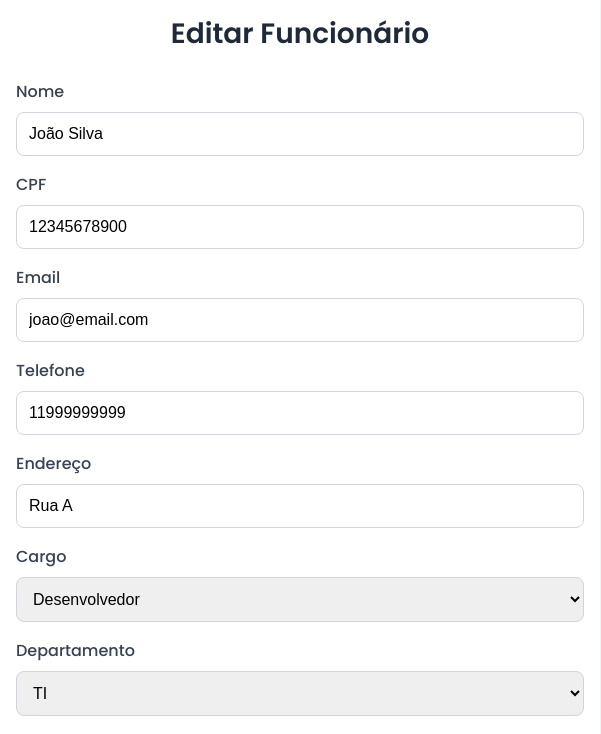
EmployeeEditForm › mostra erros de validação ao tentar salvar com campos obrigatórios vazios
Clear the field labelled "Nome" at (300, 134), box x1=16 y1=112 x2=584 y2=156
Clear the field labelled "CPF" at (300, 227), box x1=16 y1=205 x2=584 y2=249
Clear the field labelled "Email" at (300, 320), box x1=16 y1=298 x2=584 y2=342
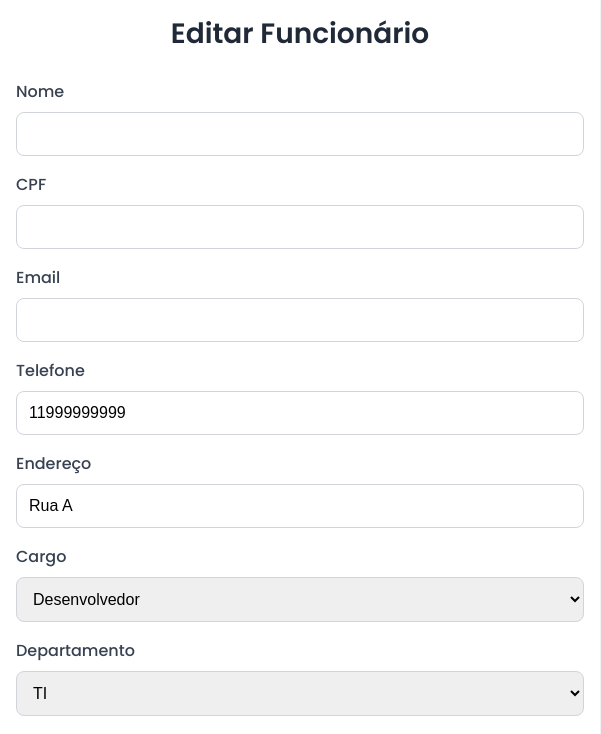
Select "Selecione" in the dropdown labelled "Cargo" at (300, 600), box x1=16 y1=577 x2=584 y2=622
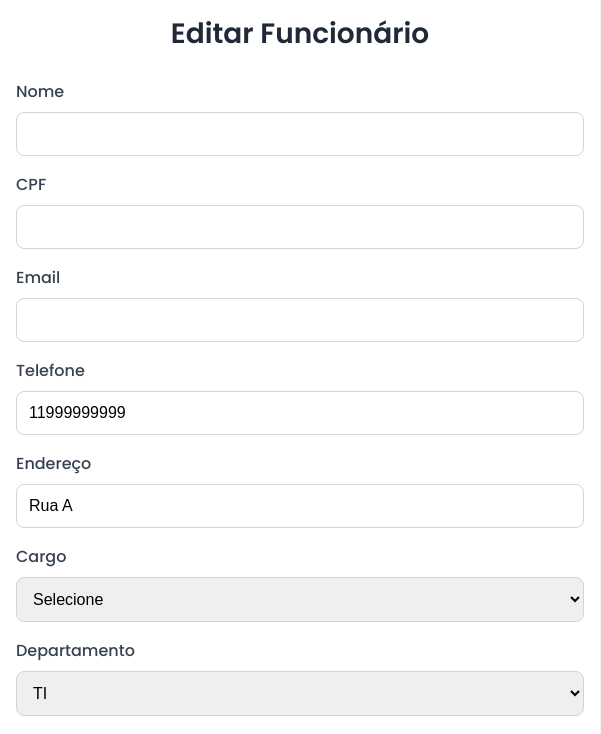
Select "Selecione" in the dropdown labelled "Departamento" at (300, 694), box x1=16 y1=671 x2=584 y2=716
(page scrolled)
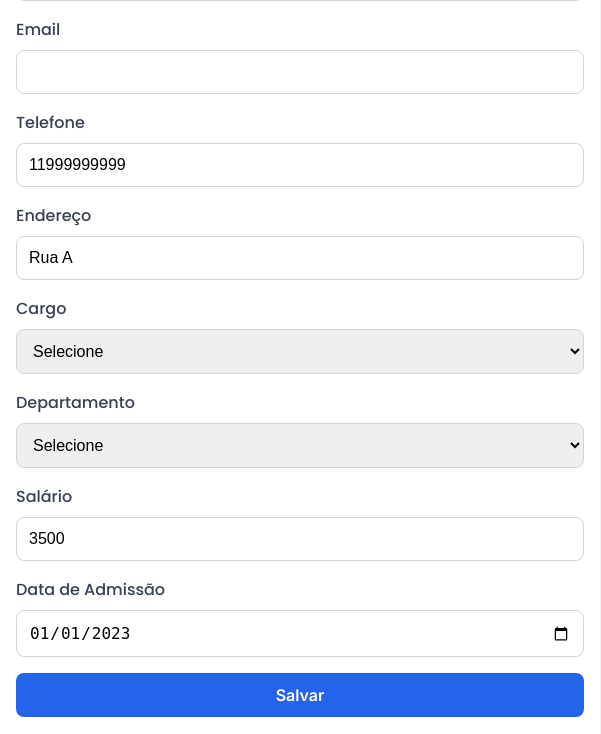
Clear the number field labelled "Salário" at (300, 539), box x1=16 y1=517 x2=584 y2=561
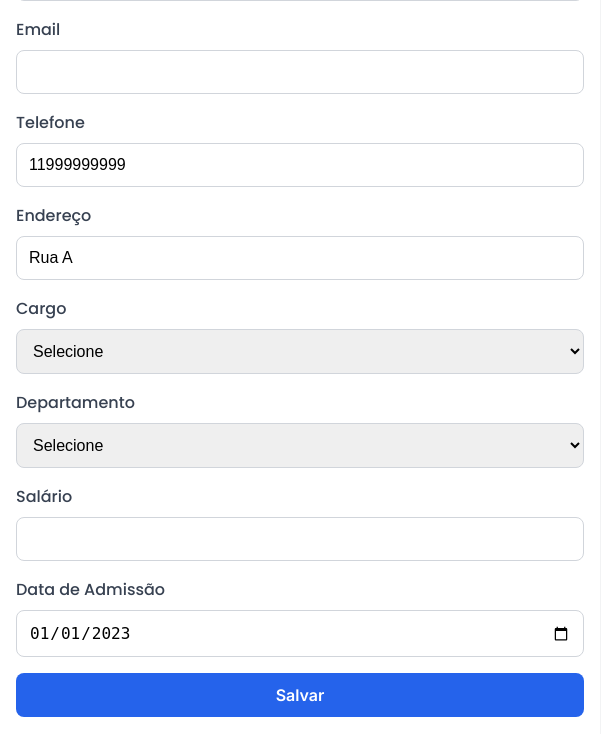
Clear the date field labelled "Data de Admissão" at (300, 634), box x1=16 y1=610 x2=584 y2=657
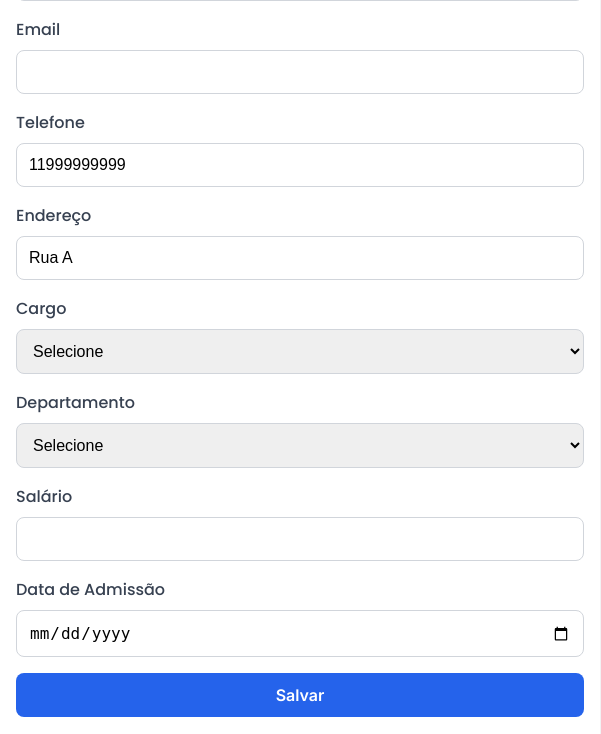
Click the button "Salvar" at (300, 695), box x1=16 y1=673 x2=584 y2=717
(page scrolled)
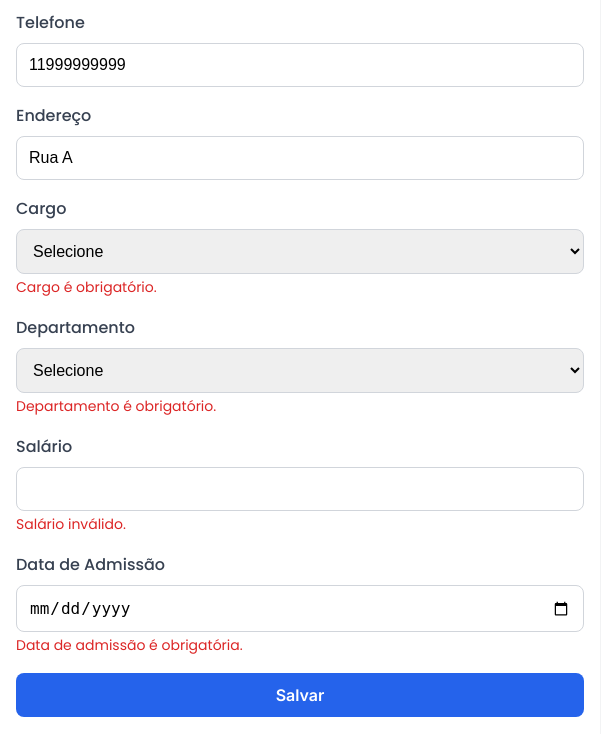
Now the text "Cargo é obrigatório." is shown, box x1=16 y1=277 x2=157 y2=297
Now the text "Departamento é obrigatório." is shown, box x1=16 y1=396 x2=216 y2=416
Now the text "Salário inválido." is shown, box x1=16 y1=514 x2=126 y2=534
